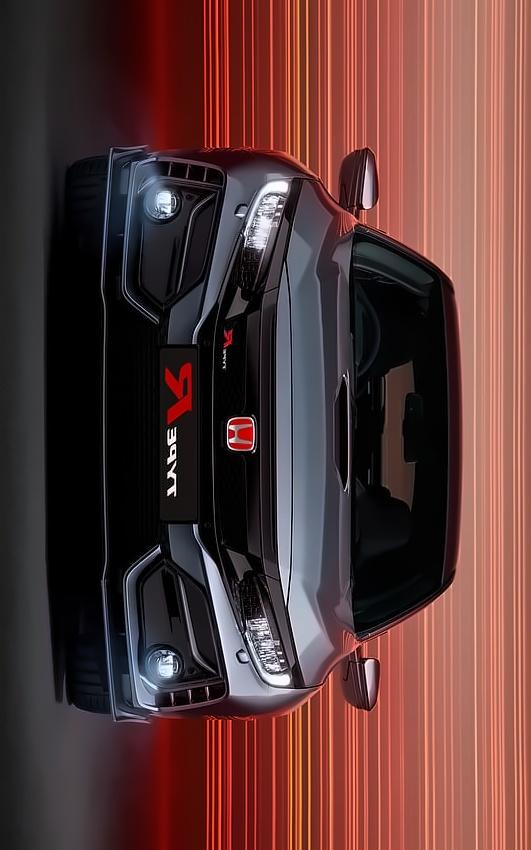Car hood: (262, 159, 356, 701)
Front bumper: (73, 145, 211, 734)
Headlight - -L-: (226, 580, 306, 697)
Headlight - -R-: (230, 173, 306, 259)
Side mirror - -L-: (340, 649, 384, 717)
Side mirror - -R-: (330, 143, 386, 226)
